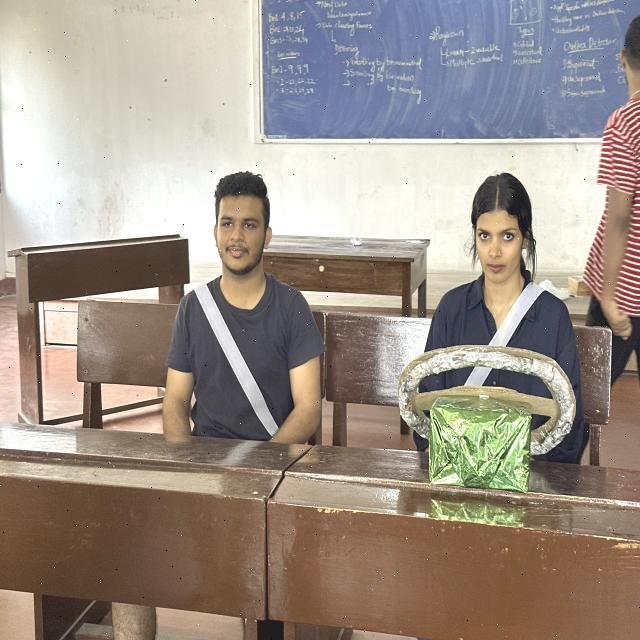seatbelt: (427, 274, 572, 456), (180, 276, 320, 458)
